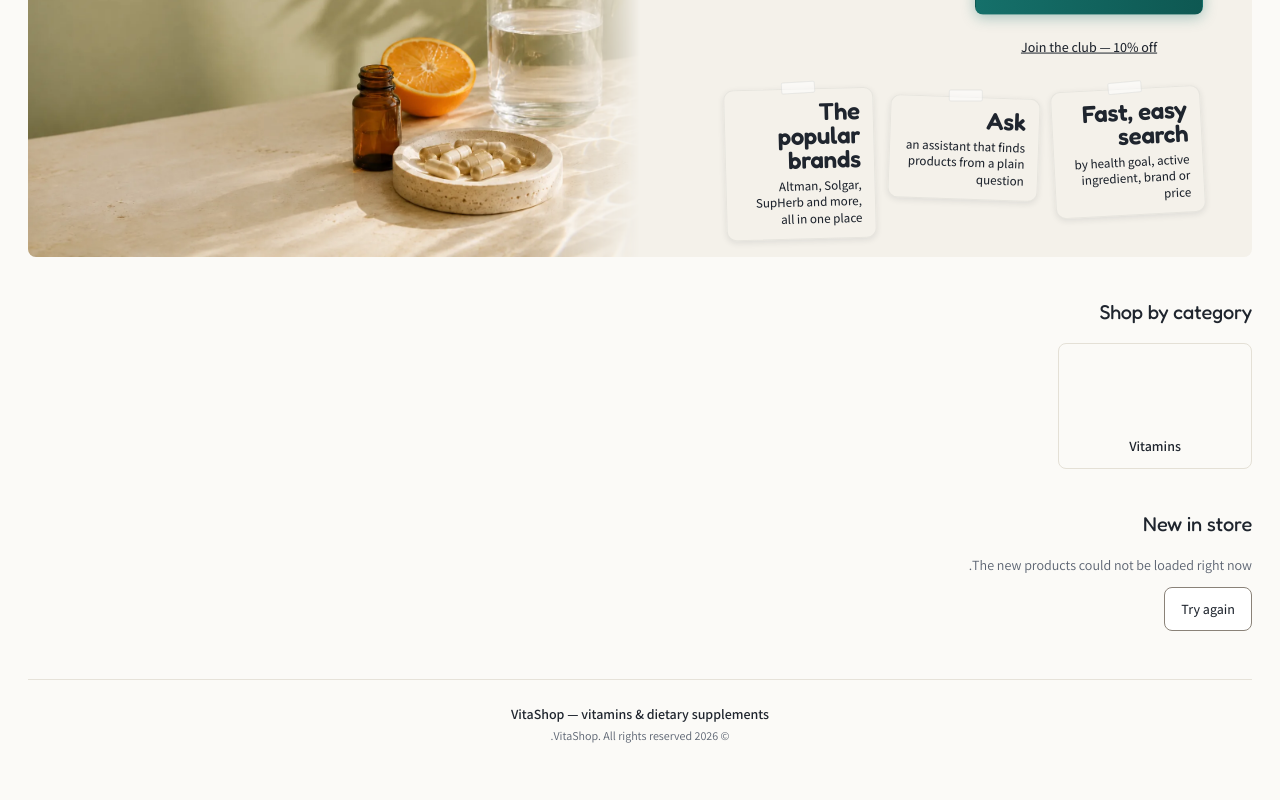
Test: the New Arrivals shelf › 🔴 RETRY actually re-requests — the path nothing exercised
(page scrolled)
Click the button "Try again". click: (1208, 609)
box: [1164,587,1252,631]
(page scrolled)
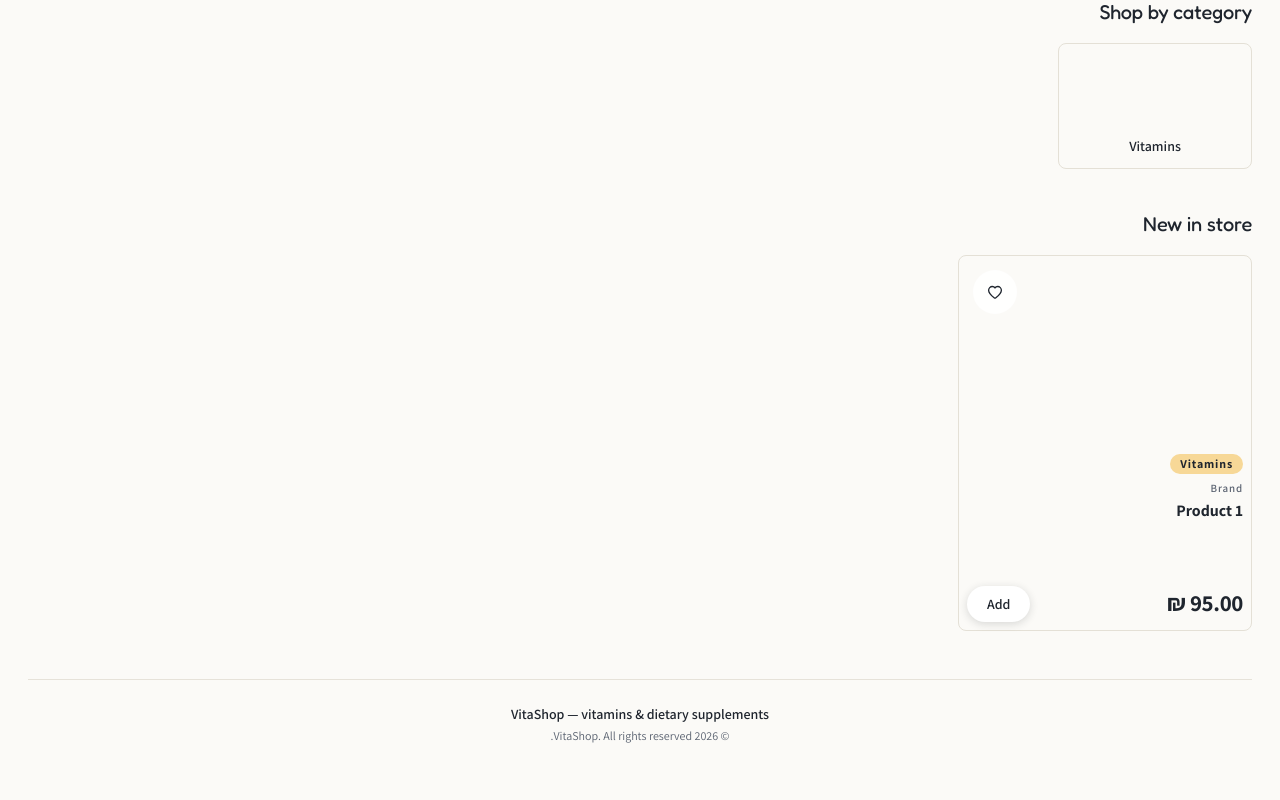
Expected: the link "Product 1" is shown, [1176,500,1243,520]
